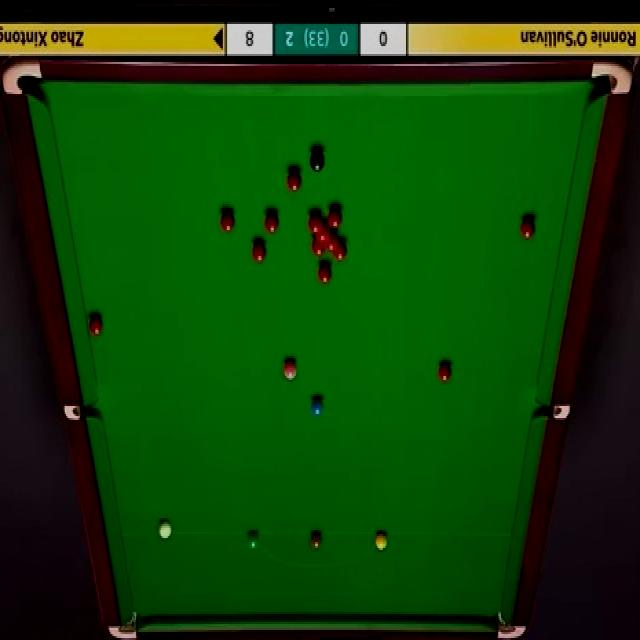black-ball: (310, 148, 326, 173)
blue-ball: (310, 393, 324, 418)
brown-ball: (310, 531, 323, 550)
green-ball: (246, 531, 259, 550)
pink-ball: (282, 358, 298, 380)
red-ball: (218, 206, 238, 234), (252, 237, 268, 266), (264, 206, 280, 234), (286, 166, 301, 195), (520, 214, 536, 240), (310, 234, 326, 257), (89, 310, 103, 336), (328, 204, 343, 228), (317, 260, 332, 284), (326, 230, 340, 254), (438, 359, 451, 384), (308, 211, 322, 234), (334, 241, 348, 264), (316, 222, 330, 242)
white-ball: (156, 518, 174, 540)
yellow-ball: (375, 531, 388, 550)
